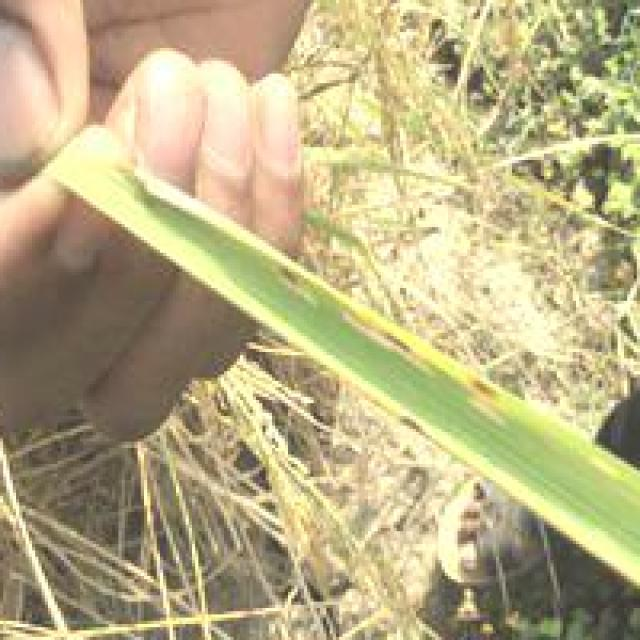Brown_Spot: (342, 308, 428, 346), (272, 247, 317, 284), (470, 364, 506, 394)
